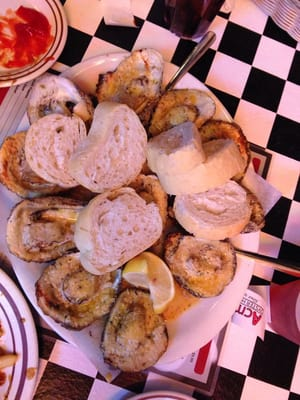sushi: (0, 0, 68, 88)
